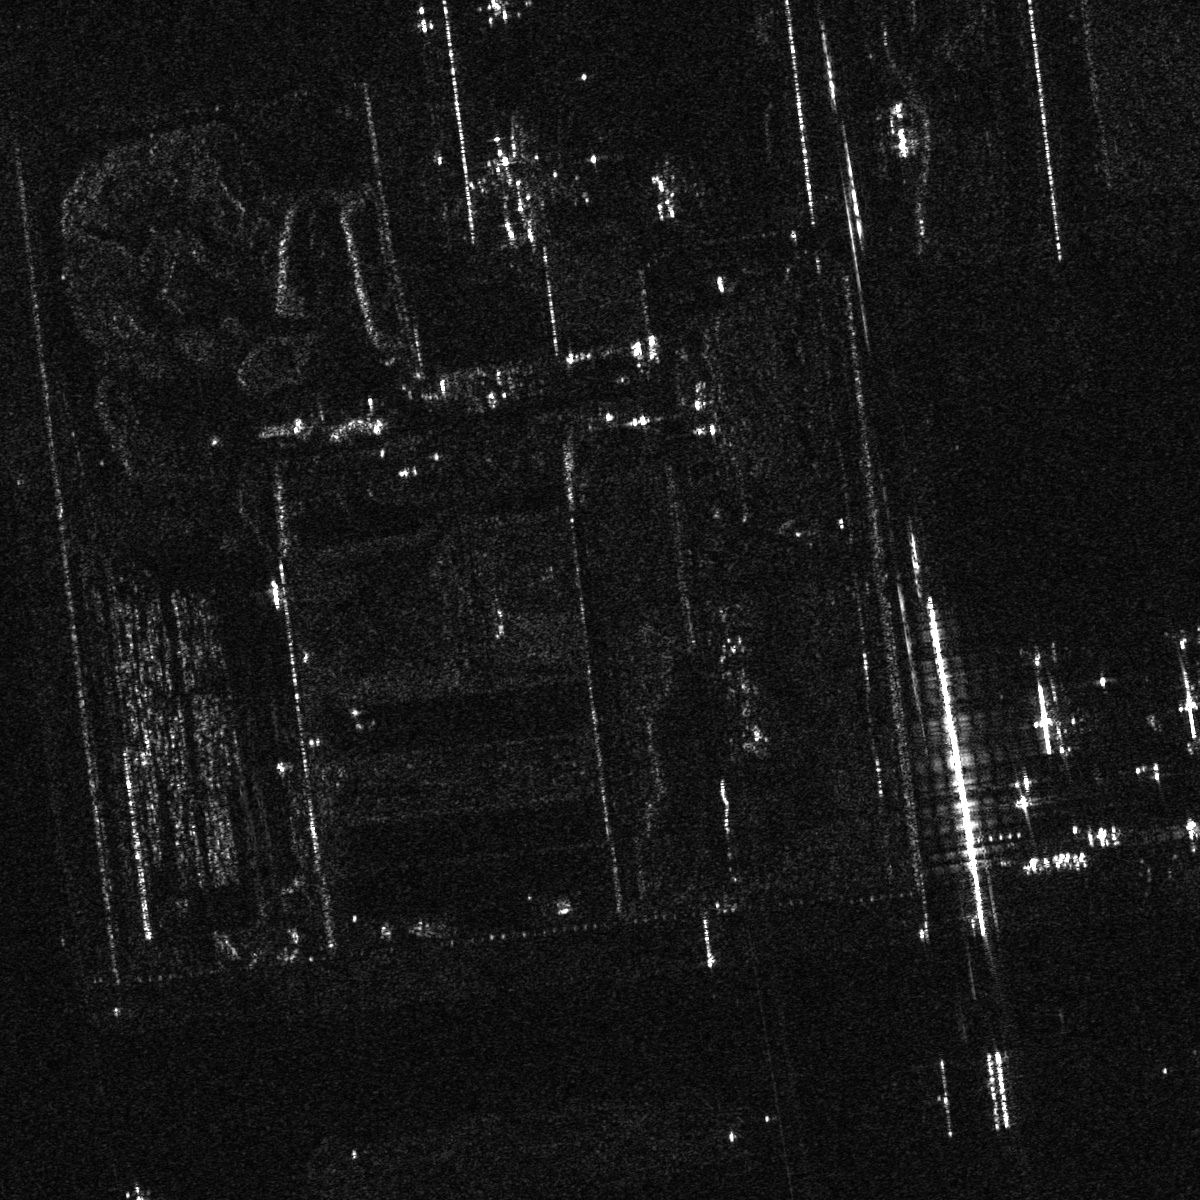A220: (642, 174, 686, 224)
other: (468, 129, 562, 240)
